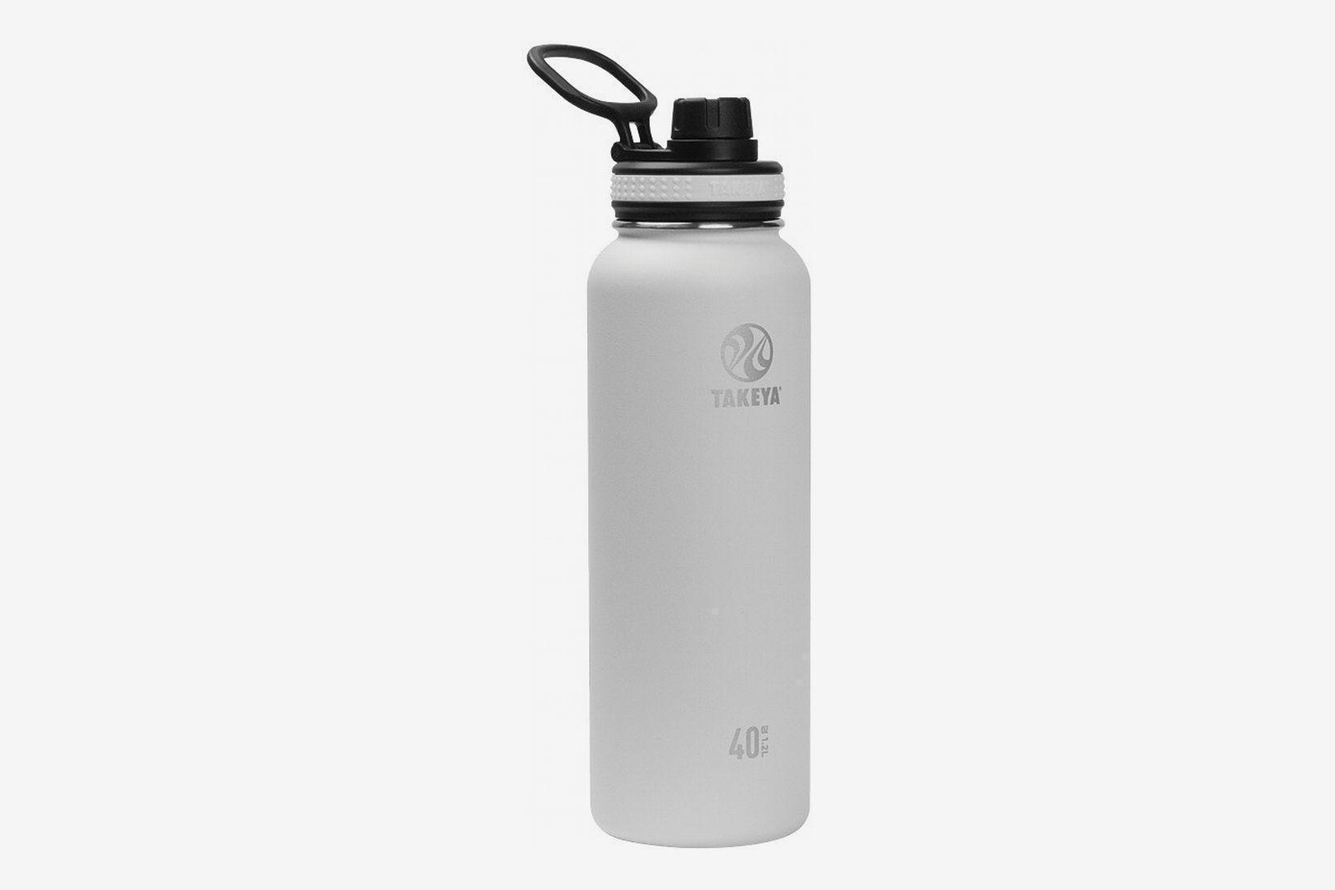gym bottle: (527, 37, 828, 862)
